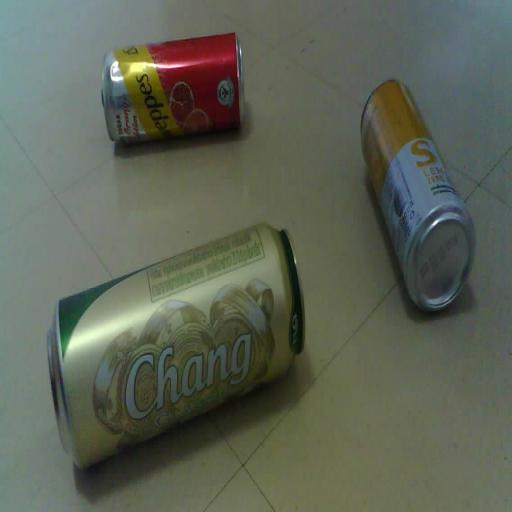canned: (34, 207, 317, 480), (349, 61, 488, 351), (90, 28, 256, 153)
